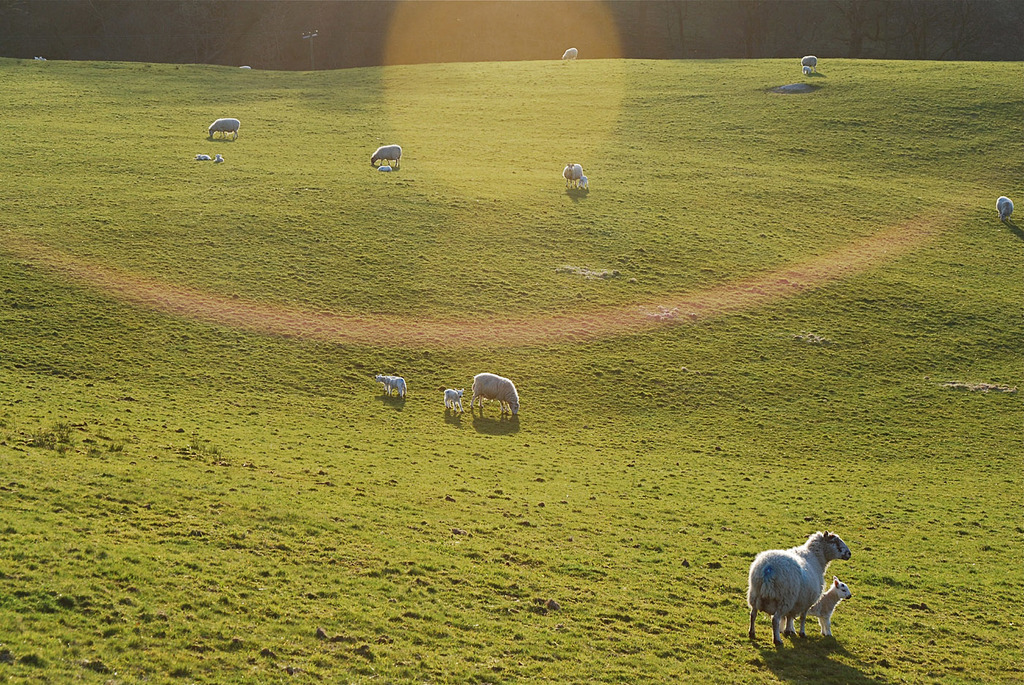sheep: (747, 532, 850, 646), (469, 373, 520, 418), (377, 373, 403, 401), (370, 143, 402, 164), (443, 386, 466, 409), (209, 119, 239, 136), (561, 163, 582, 184), (996, 192, 1013, 215), (803, 56, 817, 67), (561, 47, 575, 57), (803, 62, 814, 74), (578, 173, 588, 185), (377, 163, 390, 171)
